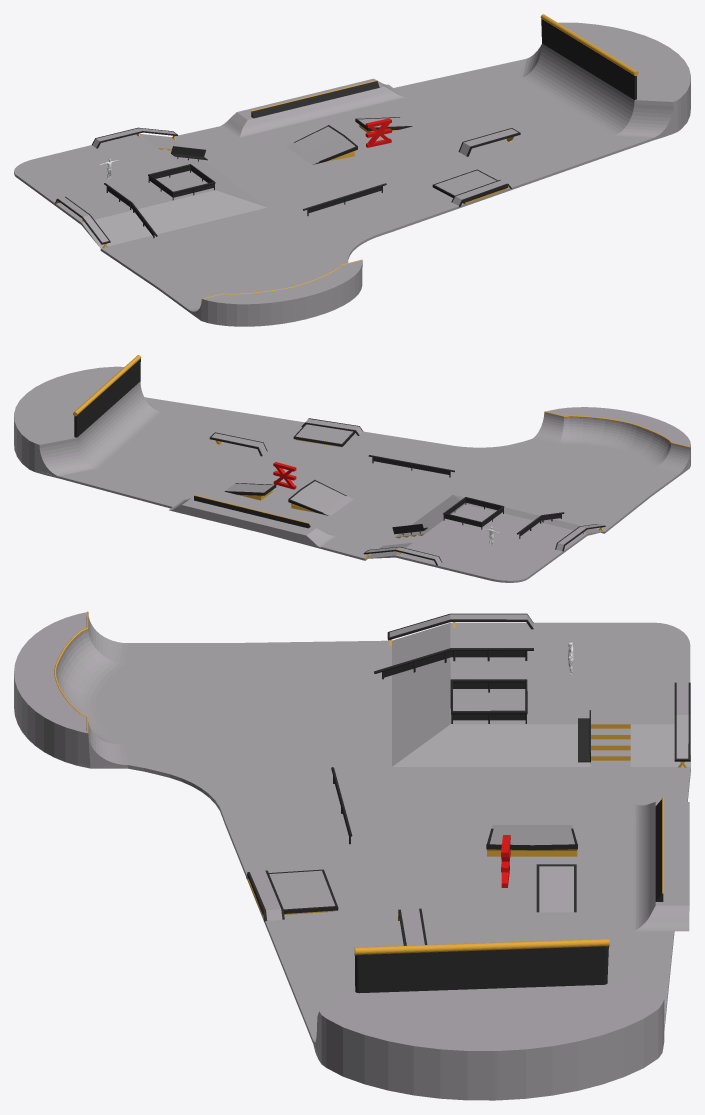
Rendered from FirstPark.fbx.
The picture shows the model from 3 angles, top to bottom: view 1: azimuth 30°, elevation 25°; view 2: azimuth 150°, elevation 25°; view 3: azimuth 270°, elevation 25°; orthographic projection. The views are drawn at different scales.
Visible parts, largest first — view 1: MainBankHipBowl, AngledQuarterBank.001, SeperateBankBig, PlaneRail, BoxLedgeTop, LedgeHigh, Hubba1, EnschedeLedge, FlatPlaneSquare, GroundRail, Hubba2, LedgeLow; view 2: MainBankHipBowl, AngledQuarterBank.001, SeperateBankBig, BoxLedgeTop, PlaneRail, SeperateBankSmall, LedgeHigh, GroundRail, FlatPlaneSquare, EnschedeLedge, Hubba2, LedgeLow (+1 smaller); view 3: MainBankHipBowl, AngledQuarterBank.001, SeperateBankBig, BoxLedgeTop, SeperateBankSmall, Hubba2, Hubba1, LedgeLow, FlatPlaneSquare, FlatPlaneBent, LedgeHigh, PlaneRail (+1 smaller).
Part boxes in pixels (box(x1,y1,x2,y2)): MainBankHipBowl: box(14, 14, 690, 326); AngledQuarterBank.001: box(221, 78, 405, 137); SeperateBankBig: box(286, 125, 357, 164); PlaneRail: box(251, 80, 379, 118); BoxLedgeTop: box(432, 169, 507, 203); LedgeHigh: box(458, 128, 520, 156); Hubba1: box(55, 196, 110, 244); EnschedeLedge: box(365, 118, 391, 147); FlatPlaneSquare: box(149, 166, 213, 197); GroundRail: box(303, 183, 386, 215); Hubba2: box(92, 127, 177, 148); LedgeLow: box(451, 180, 511, 207); MainBankHipBowl: box(14, 355, 690, 582); AngledQuarterBank.001: box(169, 498, 336, 547); SeperateBankBig: box(288, 480, 353, 516); BoxLedgeTop: box(293, 424, 355, 446); PlaneRail: box(194, 495, 310, 528); SeperateBankSmall: box(224, 483, 276, 500); LedgeHigh: box(209, 432, 267, 456); GroundRail: box(368, 455, 454, 477); FlatPlaneSquare: box(444, 499, 502, 527); EnschedeLedge: box(273, 462, 296, 489); Hubba2: box(363, 546, 442, 565); LedgeLow: box(301, 418, 363, 435); MainBankHipBowl: box(14, 611, 690, 1100); AngledQuarterBank.001: box(634, 802, 689, 931); SeperateBankBig: box(486, 825, 577, 856); BoxLedgeTop: box(248, 869, 338, 915); SeperateBankSmall: box(536, 864, 576, 912); Hubba2: box(674, 682, 690, 761); Hubba1: box(387, 613, 533, 640); LedgeLow: box(246, 870, 284, 922); FlatPlaneSquare: box(453, 682, 525, 720); FlatPlaneBent: box(384, 651, 525, 677); LedgeHigh: box(398, 908, 427, 945); PlaneRail: box(655, 797, 663, 901).
Size of the model in its own units: 5414 by 530 by 3395.
